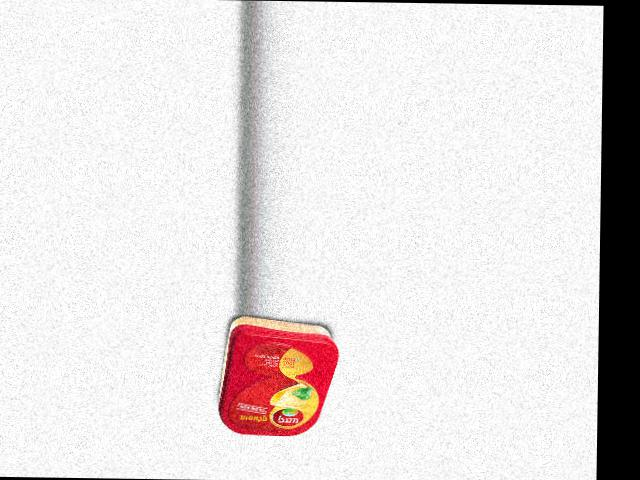cheese: (217, 315, 339, 437)
